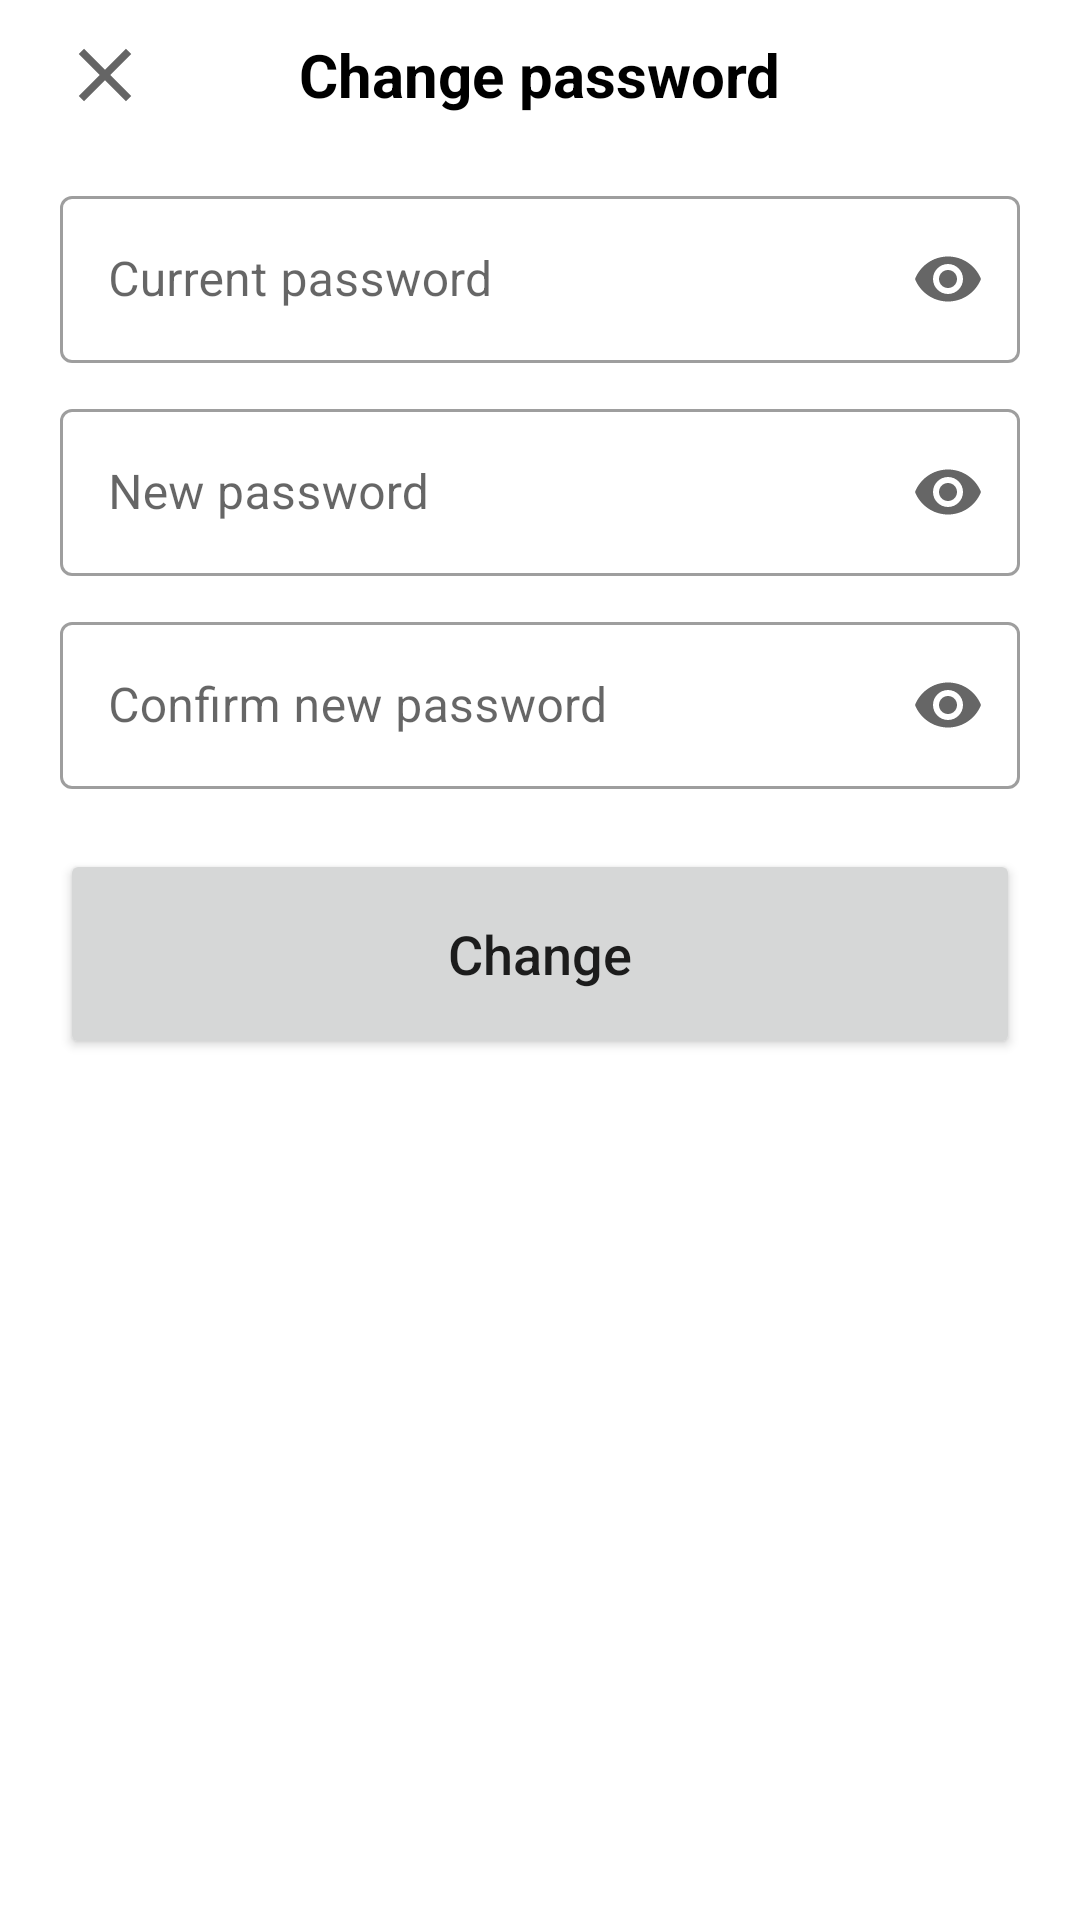

Icons on this 1080w x 1920h Android screen, each with its box as region(x1, y1, x2, y2):
close: region(79, 49, 131, 101)
